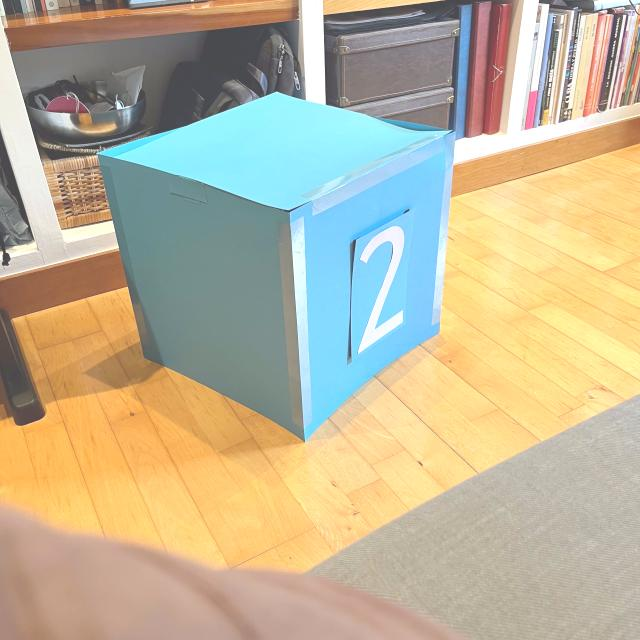box: (94, 89, 460, 443)
